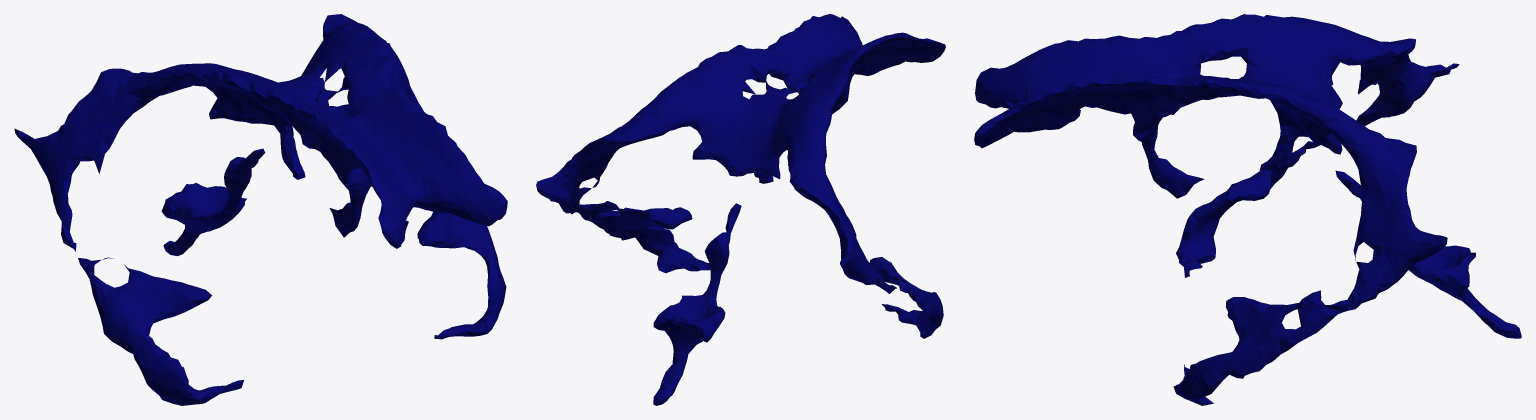
File: 53-LV-ventricles-('0.0000', '0.0000', '0.4980').obj
The picture shows the model from 3 angles, left to right: view 1: azimuth 30°, elevation 25°; view 2: azimuth 150°, elevation 25°; view 3: azimuth 270°, elevation 25°; orthographic projection. The views are drawn at different scales.
Size of the model in its own units: 210 by 154 by 266.
